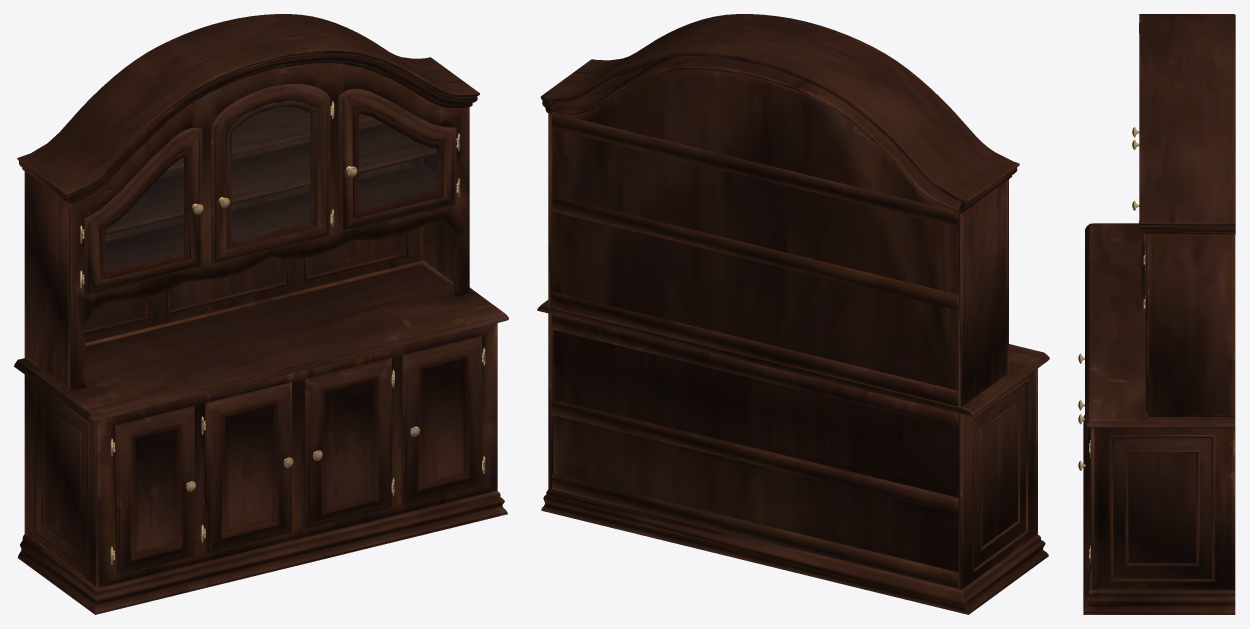
File: vintage_cabinet_01.3cf8dc61.glb
3 renders of one model, left to right at view 1: azimuth 30°, elevation 25°; view 2: azimuth 150°, elevation 25°; view 3: azimuth 270°, elevation 25°, orthographic. The views are drawn at different scales.
Visible parts, largest first — view 1: vintage_cabinet_01_body, vintage_cabinet_01_door_03, vintage_cabinet_01_door_01, vintage_cabinet_01_door_04, vintage_cabinet_01_door_06, vintage_cabinet_01_door_07, vintage_cabinet_01_door_05, vintage_cabinet_01_door_02; view 2: vintage_cabinet_01_body; view 3: vintage_cabinet_01_body, vintage_cabinet_01_door_02, vintage_cabinet_01_door_04.
Part boxes in pixels (x1,y1,x2,y2): vintage_cabinet_01_body: [14, 14, 508, 614]; vintage_cabinet_01_door_03: [210, 83, 332, 264]; vintage_cabinet_01_door_01: [82, 127, 203, 295]; vintage_cabinet_01_door_04: [338, 88, 458, 233]; vintage_cabinet_01_door_06: [204, 382, 293, 553]; vintage_cabinet_01_door_07: [305, 357, 392, 529]; vintage_cabinet_01_door_05: [113, 406, 195, 575]; vintage_cabinet_01_door_02: [402, 336, 483, 505]; vintage_cabinet_01_body: [537, 14, 1049, 614]; vintage_cabinet_01_body: [1083, 14, 1235, 614]; vintage_cabinet_01_door_02: [1078, 427, 1090, 572]; vintage_cabinet_01_door_04: [1132, 200, 1145, 319].
Bounding box in the file's own units: 0.9043 × 1 × 0.2997.
3 materials, 2 textured.
